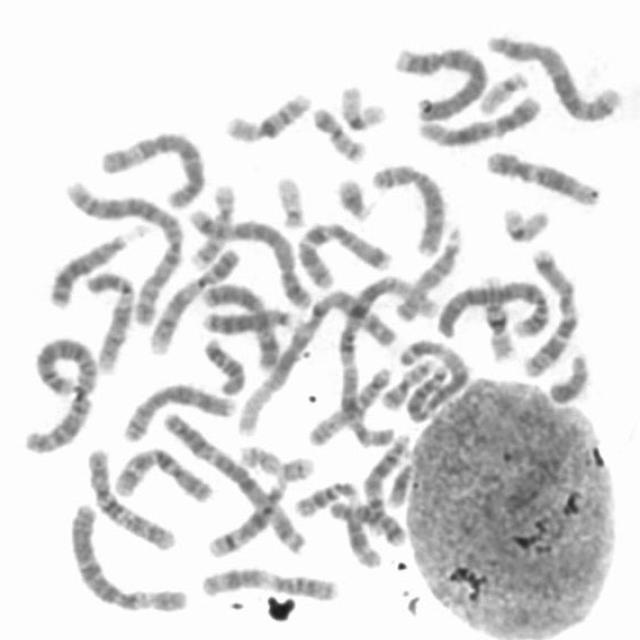A1: (228, 278, 425, 442), (330, 264, 440, 456)
A2: (60, 173, 186, 325), (18, 332, 99, 456)
A3: (158, 405, 310, 553), (394, 333, 472, 425)
B4: (386, 38, 491, 124), (433, 272, 552, 342)
B5: (181, 202, 313, 309), (484, 27, 625, 123)
C10: (82, 442, 179, 552), (108, 440, 217, 505)
C11: (290, 477, 410, 548), (196, 562, 342, 604)
C12: (482, 144, 605, 209), (414, 88, 544, 148)
C6: (64, 498, 190, 615), (97, 125, 209, 210)
C7: (516, 242, 582, 379), (294, 215, 394, 291)
C8: (366, 158, 448, 258), (116, 377, 238, 444)
C9: (145, 242, 245, 355), (79, 264, 137, 374)
D13: (44, 220, 148, 310), (196, 302, 301, 335)
D14: (204, 474, 291, 559), (358, 431, 412, 544)
D15: (389, 222, 467, 324), (302, 362, 393, 448)
E16: (218, 84, 315, 144), (477, 268, 518, 363)
E17: (187, 180, 238, 268), (234, 438, 316, 483)
E18: (326, 497, 406, 548), (199, 332, 249, 396)
F19: (334, 79, 390, 132), (498, 201, 554, 244)
F20: (307, 101, 369, 164), (377, 355, 437, 411)
G21: (332, 171, 376, 222), (384, 458, 418, 509)
G22: (473, 66, 531, 116), (271, 170, 308, 230)
X: (196, 276, 281, 373)
Y: (546, 348, 592, 405)
